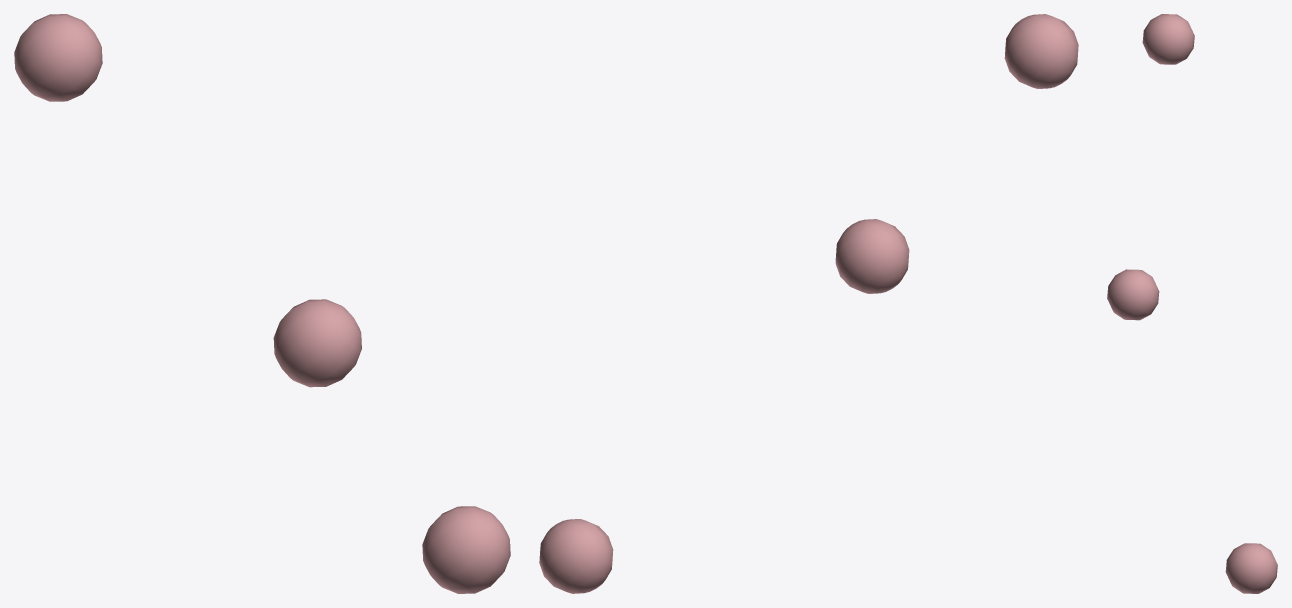
The picture shows the model from 3 angles, left to right: view 1: azimuth 30°, elevation 25°; view 2: azimuth 150°, elevation 25°; view 3: azimuth 270°, elevation 25°; orthographic projection. The views are drawn at different scales.
Visible parts, largest first — view 1: ZA_be9056136fa66d0b; view 2: ZA_be9056136fa66d0b; view 3: ZA_be9056136fa66d0b.
Boxes of the visible parts, x1,y1,x2,y2 form: ZA_be9056136fa66d0b: [14, 14, 510, 593]; ZA_be9056136fa66d0b: [539, 14, 1078, 593]; ZA_be9056136fa66d0b: [1107, 14, 1277, 593].
Bounding box in the file's own units: 0.0186 × 0.0237 × 0.00838.
